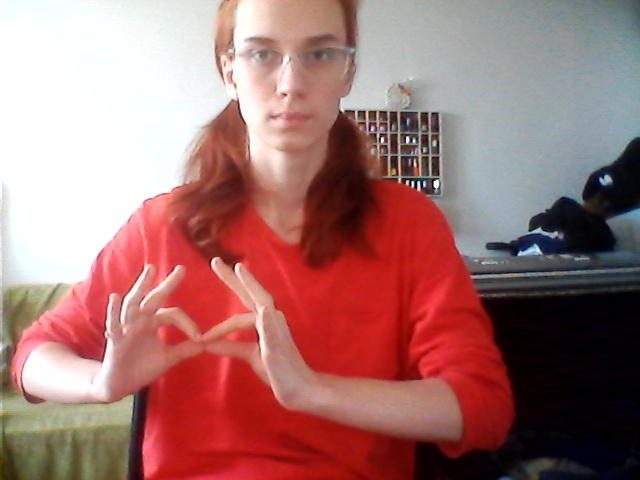b: (94, 252, 319, 420)
